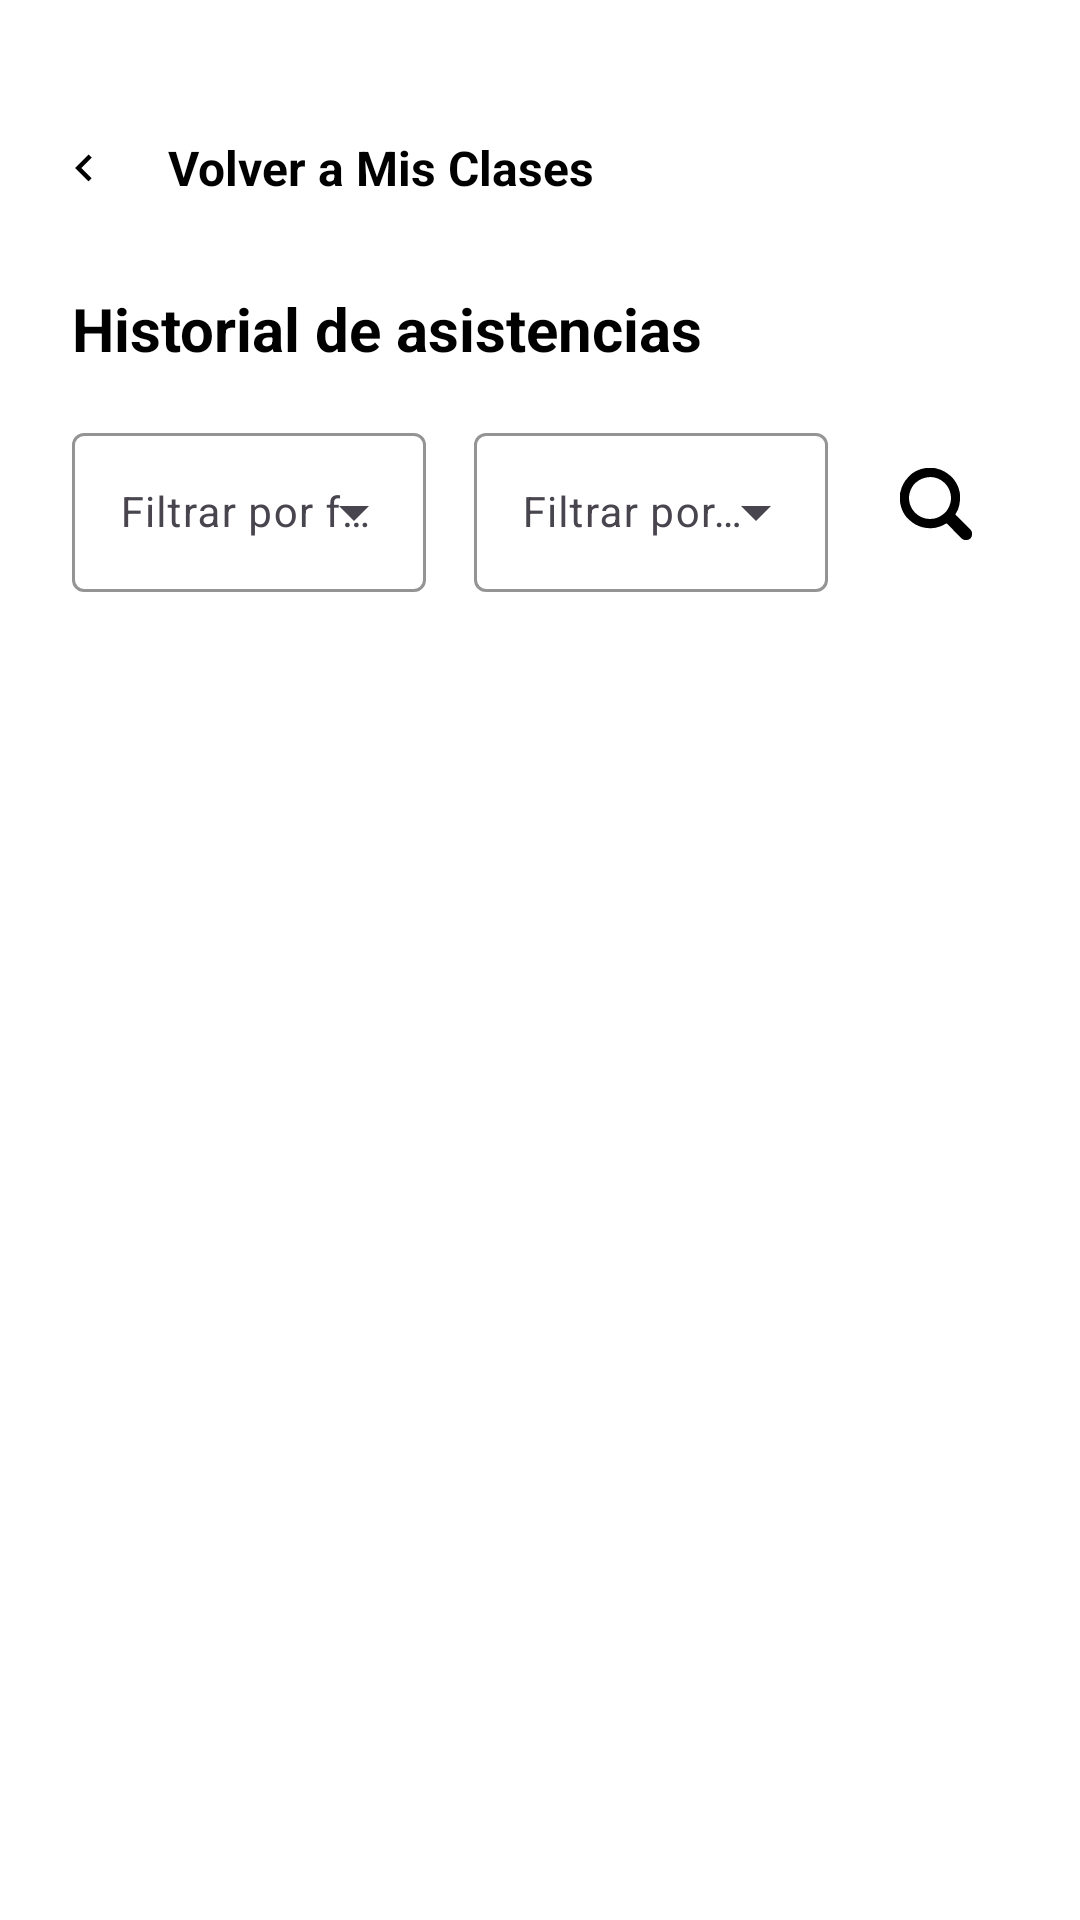

Screen size 1080 × 1920. Icon name, then its box in pixels as (x1, y1, x2, y2):
Buscar con filtros: (900, 468, 972, 540)
